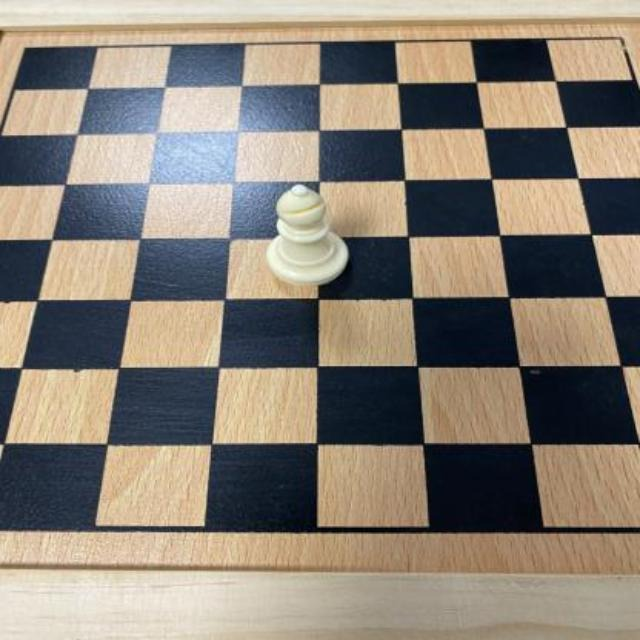white-bishop: (267, 185, 351, 285)
